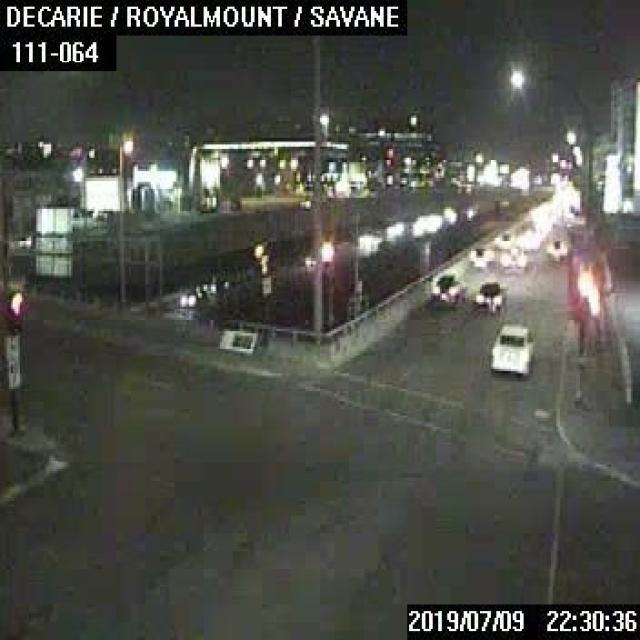vehicle: (488, 322, 535, 374), (428, 272, 465, 302), (474, 281, 503, 310), (498, 246, 525, 269), (544, 236, 567, 262), (468, 245, 488, 268), (178, 292, 196, 306)
